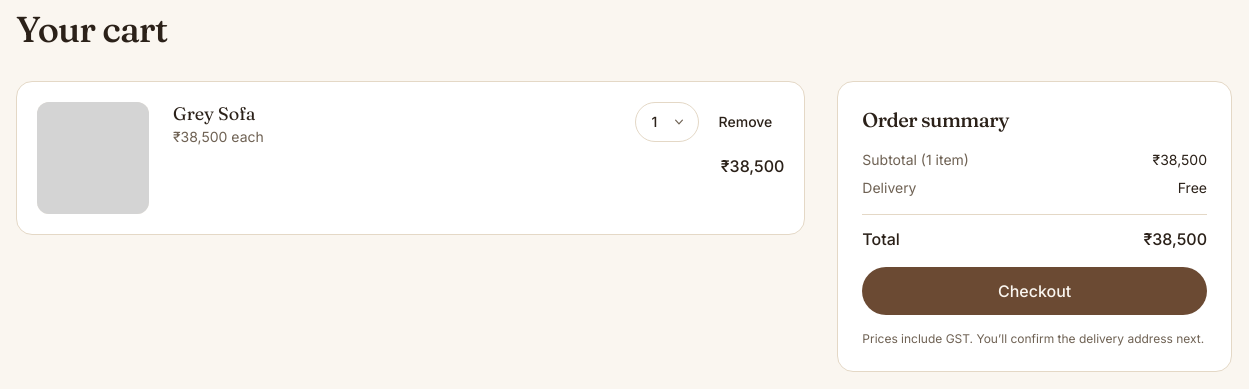
Test case: logged in › changing the quantity and removing go to the API
The width and height of the screenshot is (1249, 389).
Select "3" in the dropdown named "Quantity of Grey Sofa": [667, 122] box [635, 102, 699, 142]
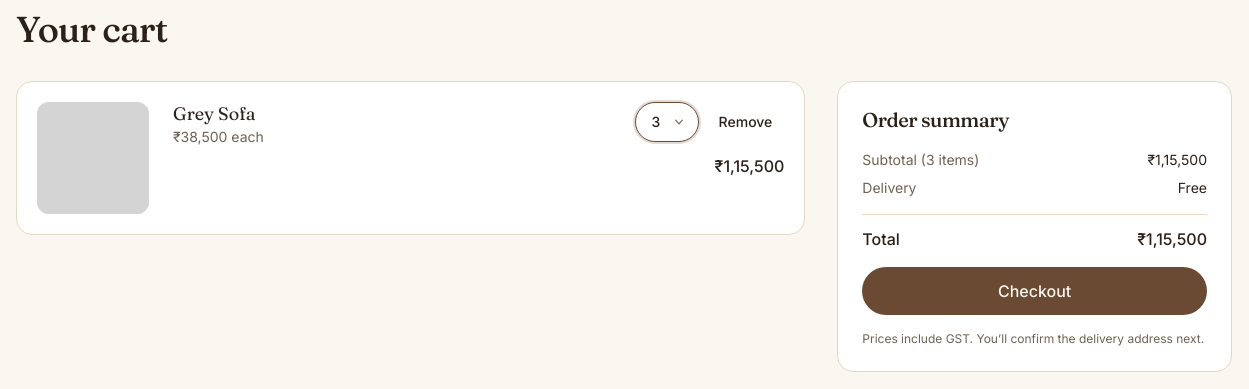
Check: the 3rd text "₹1,15,500" is shown, box [1137, 227, 1207, 251]
Click the button with aria-label "Remove Grey Sofa": [745, 122] box [707, 104, 784, 140]
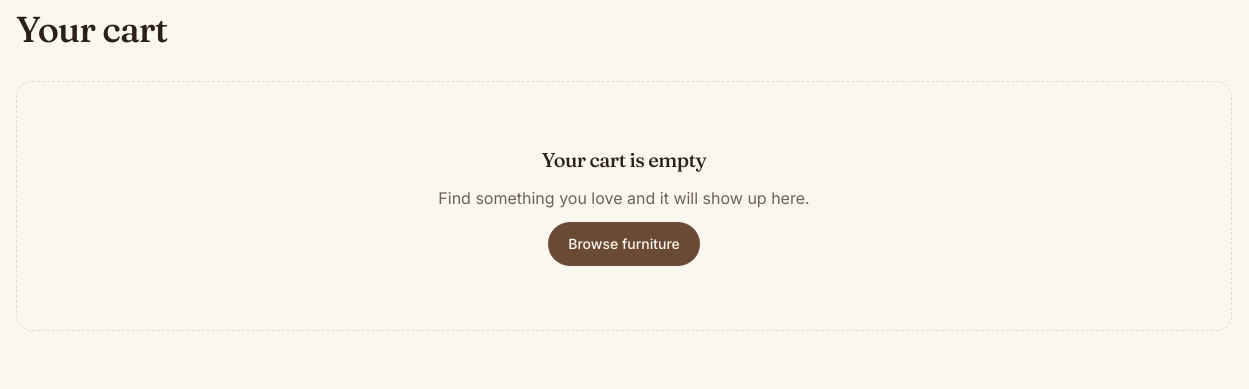
Check: the heading "Your cart is empty" is shown, box [542, 146, 706, 174]
